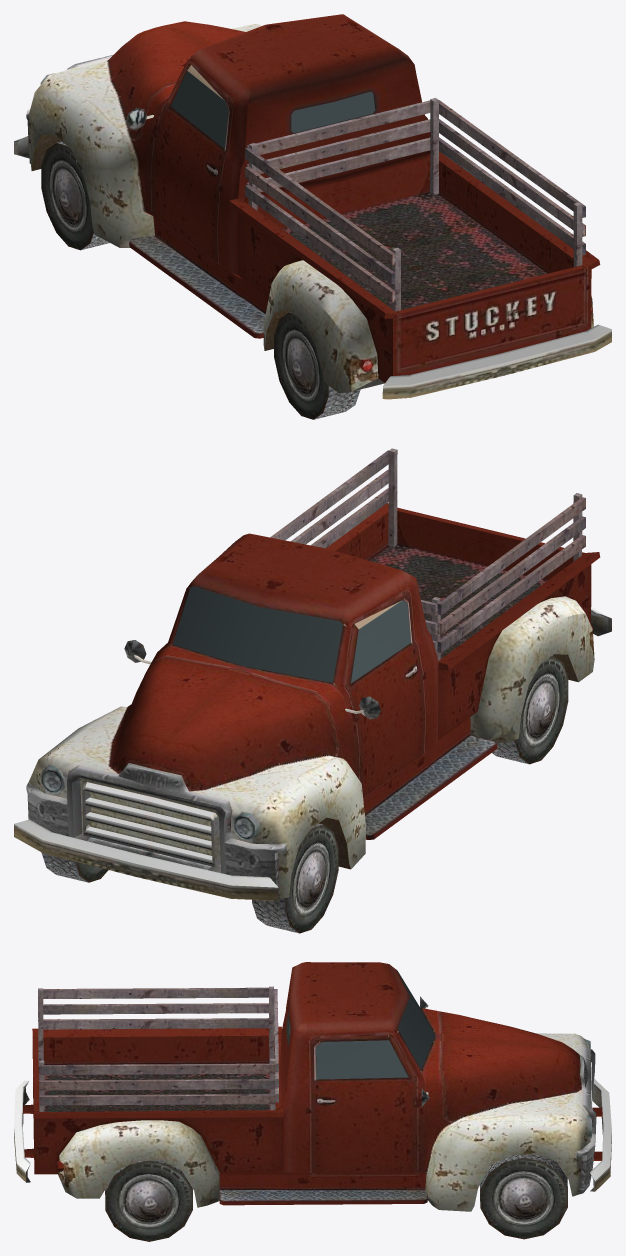
The model's file is p54_26_pickup_40s_red.glb.
3 views of the same model, one above another, from view 1: azimuth 30°, elevation 25°; view 2: azimuth 150°, elevation 25°; view 3: azimuth 270°, elevation 25° (orthographic). The views are drawn at different scales.
Visible parts, largest first — view 1: Body, Glass; view 2: Body, Glass; view 3: Body, Glass.
Part boxes in pixels (box(x1,y1,x2,y2)): Body: box(14, 14, 611, 419); Glass: box(171, 71, 375, 148); Body: box(14, 448, 611, 933); Glass: box(173, 586, 410, 683); Body: box(14, 962, 611, 1241); Glass: box(289, 971, 434, 1079).
Size of the model in its own units: 2.01 by 1.86 by 4.89.
2 materials, 2 textured.
